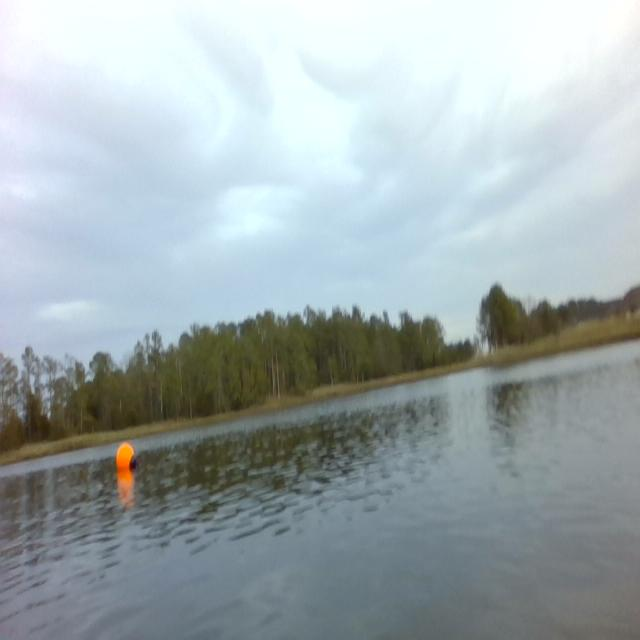Buoy: (115, 438, 139, 474)
